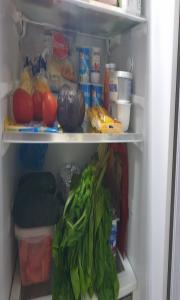Aguacate: (57, 82, 86, 133)
Pepino: (12, 192, 61, 226), (17, 171, 58, 191)
Queso: (44, 25, 78, 93), (20, 35, 51, 91)
Tomate: (12, 86, 36, 122), (43, 92, 57, 126), (32, 88, 44, 120)
Yogur: (78, 42, 90, 87), (90, 44, 102, 84)
